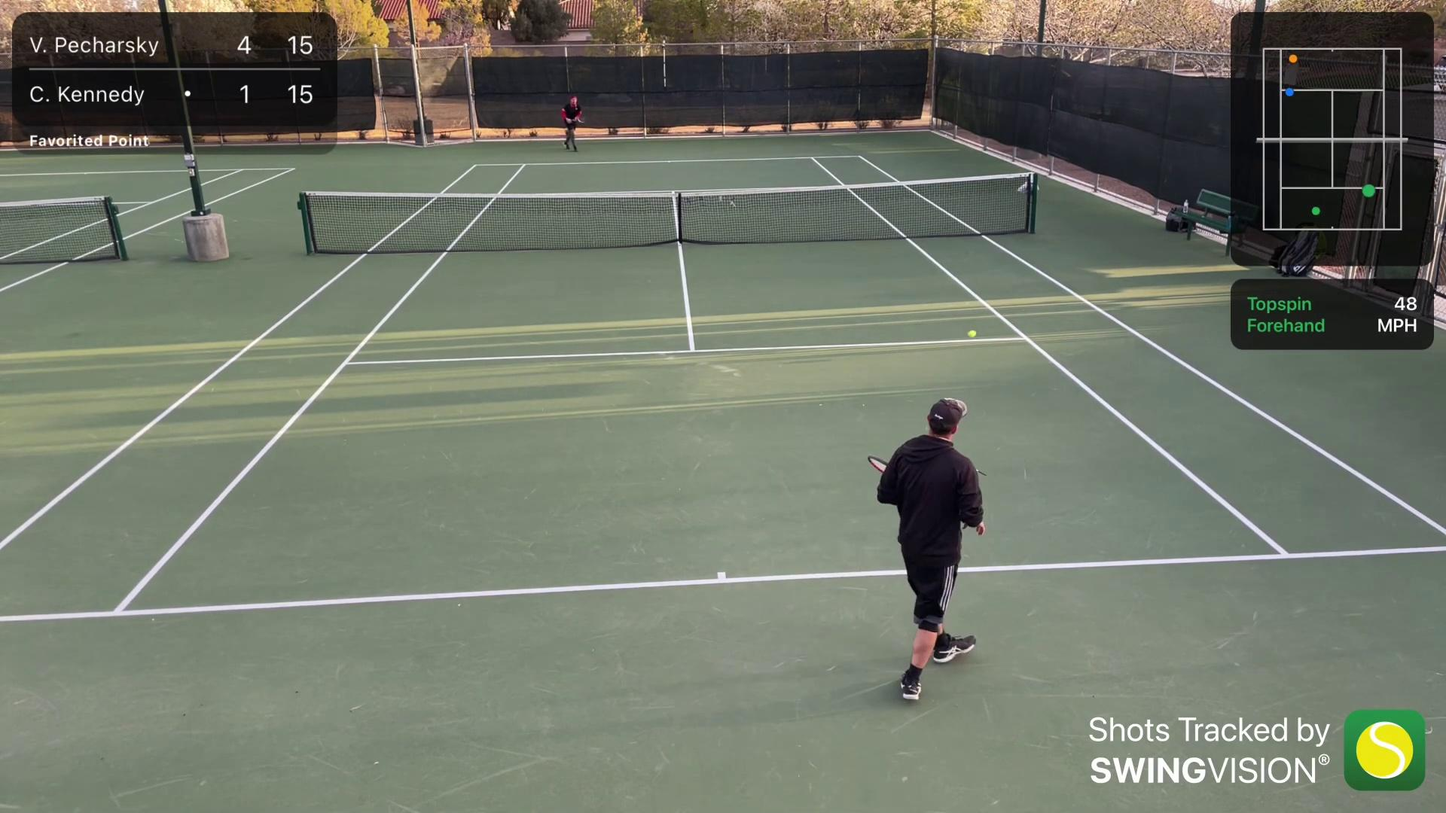ball: (964, 329, 979, 338)
